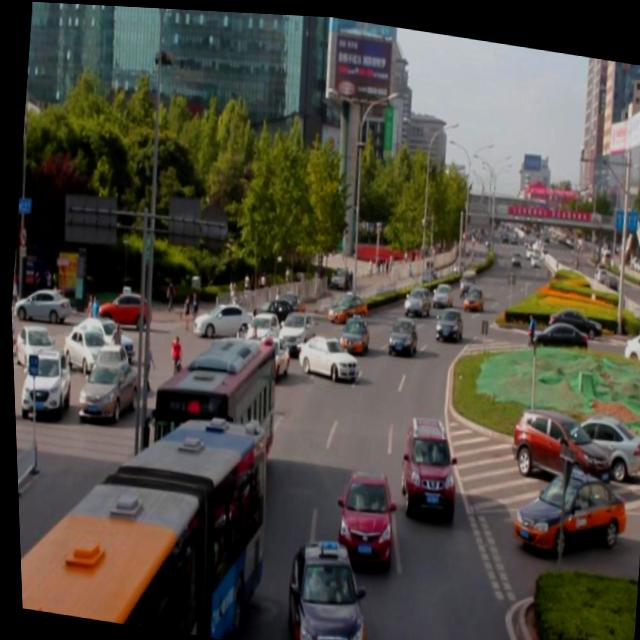car: (277, 527, 367, 640), (393, 406, 458, 515), (330, 459, 393, 563), (292, 325, 358, 380), (188, 294, 254, 339), (198, 333, 240, 391), (245, 329, 292, 379), (272, 301, 313, 354), (248, 291, 300, 328), (240, 306, 278, 353), (322, 286, 366, 323), (382, 309, 417, 353), (334, 307, 368, 352), (431, 299, 462, 340), (399, 278, 431, 313)
van: (11, 381, 272, 640), (143, 321, 280, 490)
